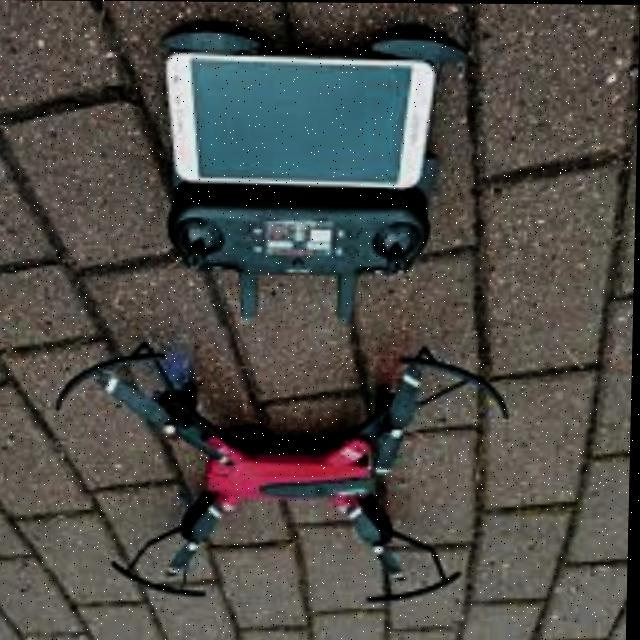drone: (49, 306, 517, 626)
